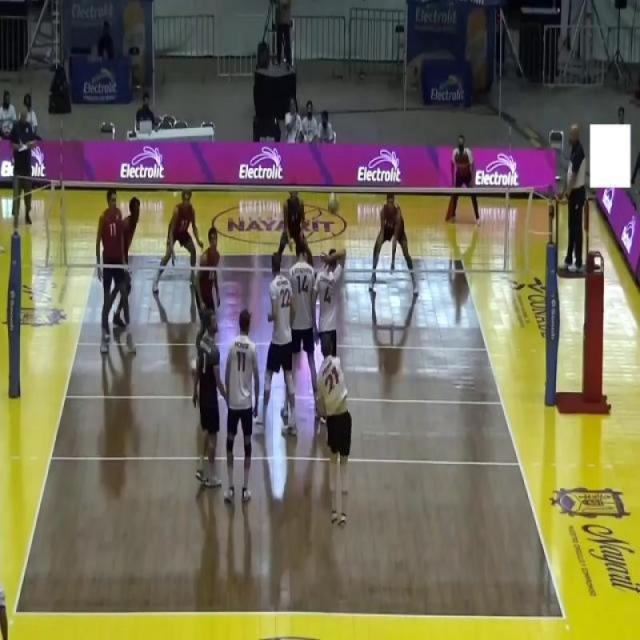volleyball: (327, 192, 340, 215)
